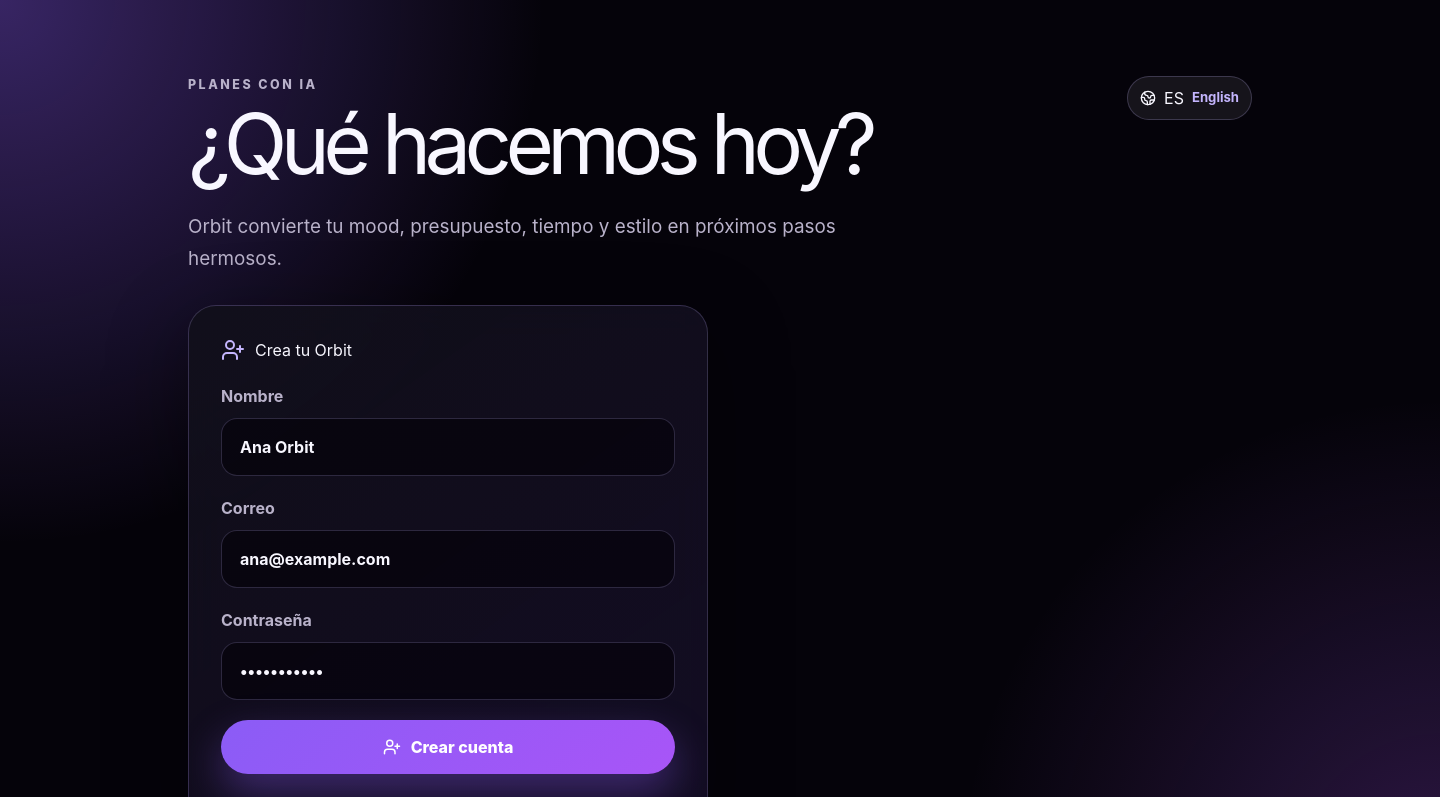
Test: Orbit web foundation › completes onboarding for a newly registered user without reloading
Step 1. Click the button "Crear cuenta" → click(448, 747), box [221,720,675,774]
(page scrolled)
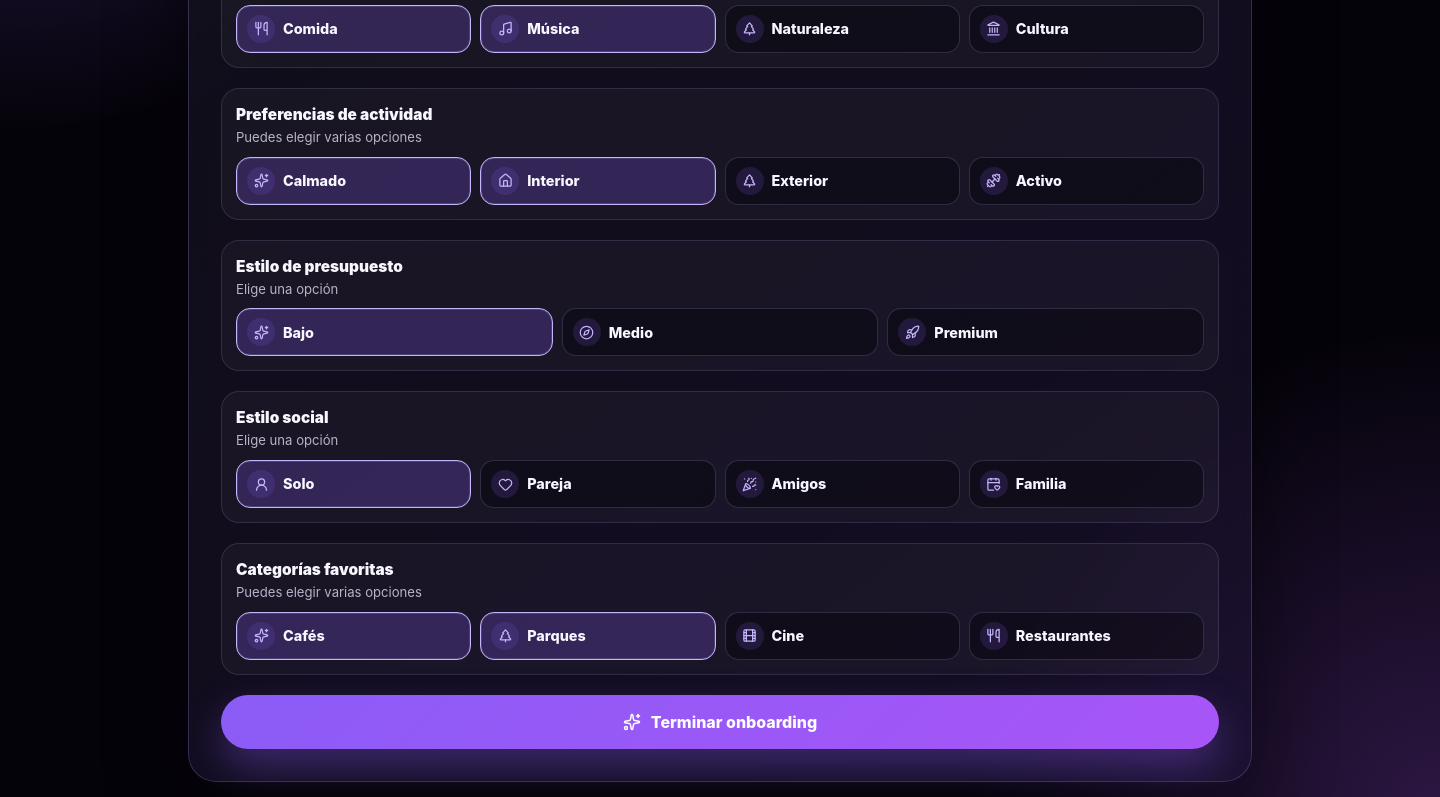
Step 2. Click the button "Terminar onboarding" → click(720, 722), box [221,695,1219,749]
(page scrolled)
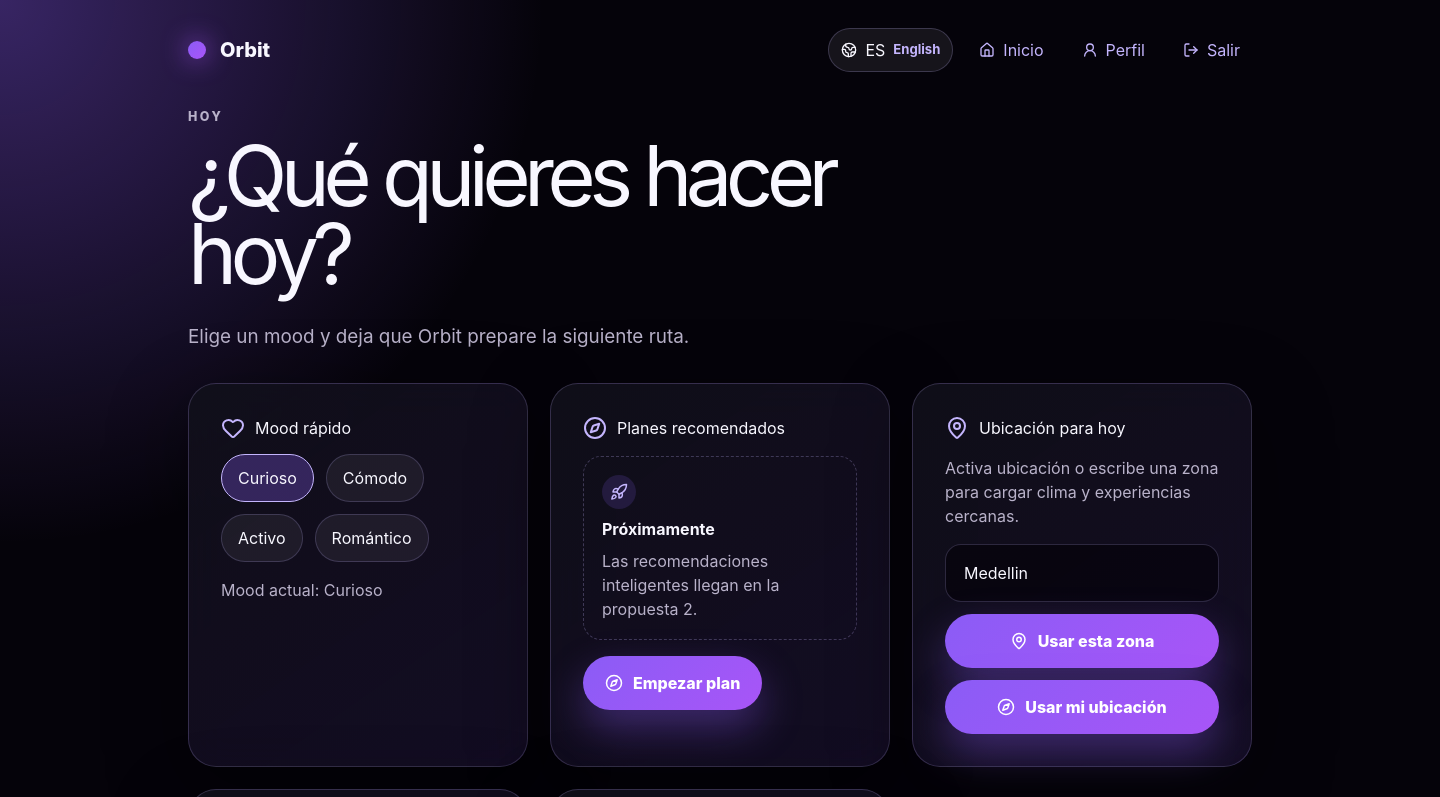
Result: the heading "¿Qué quieres hacer hoy?" is shown at [188,125,833,304]
